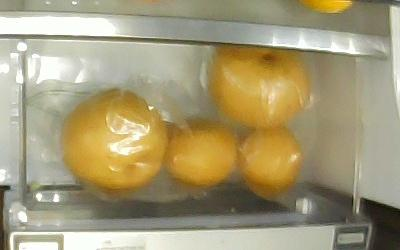pear_vinyl: (63, 90, 167, 190), (208, 42, 309, 130), (165, 119, 238, 187), (238, 130, 302, 195)
